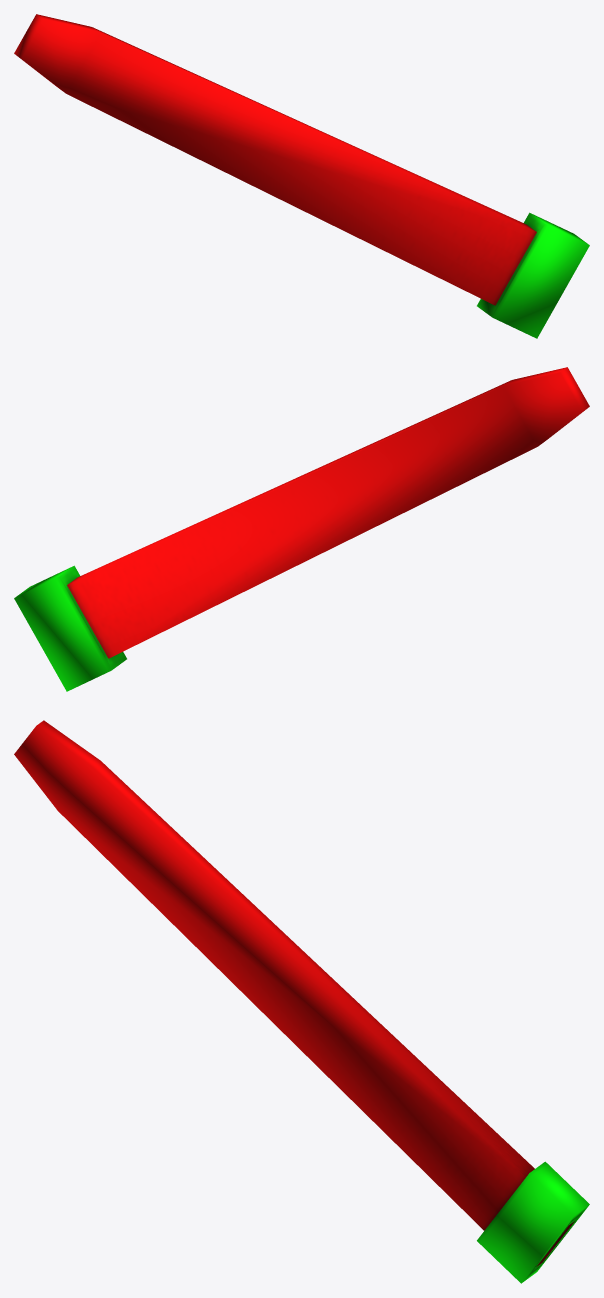
File: ChibiAccessory_Sheath.fbx
The picture shows the model from 3 angles, top to bottom: view 1: azimuth 30°, elevation 25°; view 2: azimuth 150°, elevation 25°; view 3: azimuth 330°, elevation 25°; orthographic projection.
Visible parts, largest first — view 1: AccessoryModel; view 2: AccessoryModel; view 3: AccessoryModel.
Part boxes in pixels (x1=…): AccessoryModel: x1=14, y1=14, x2=589, y2=338; AccessoryModel: x1=14, y1=367, x2=589, y2=691; AccessoryModel: x1=14, y1=720, x2=589, y2=1283.
Size of the model in its own units: 2.26 by 1.67 by 0.1101.
